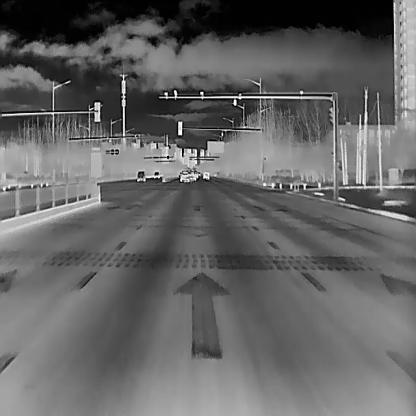car: (178, 170, 189, 181), (136, 170, 144, 180), (188, 170, 196, 180), (202, 170, 209, 179), (152, 170, 158, 177)
